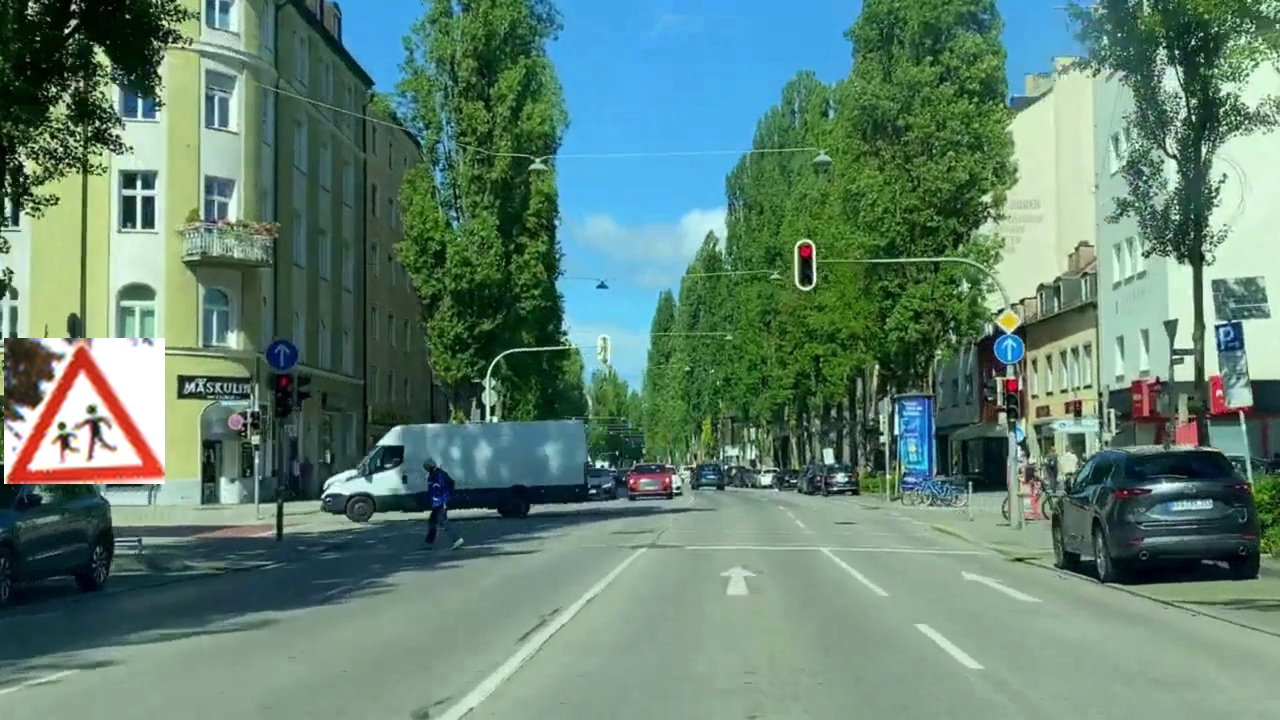Children: (4, 338, 165, 484)
